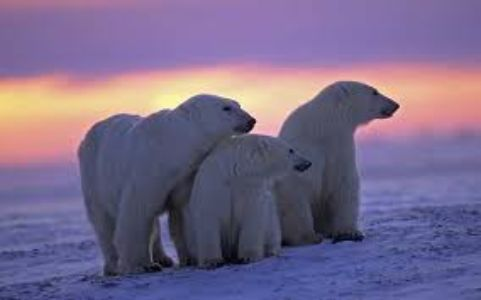bear: (78, 89, 251, 278), (311, 79, 405, 251), (205, 138, 311, 263)
